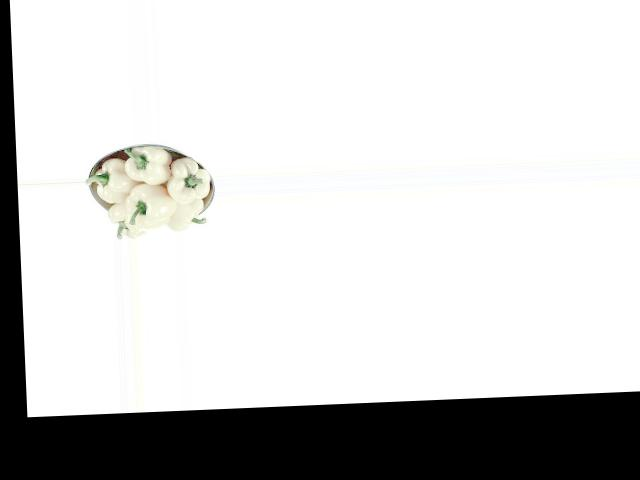bell_pepper: (103, 198, 146, 239)
